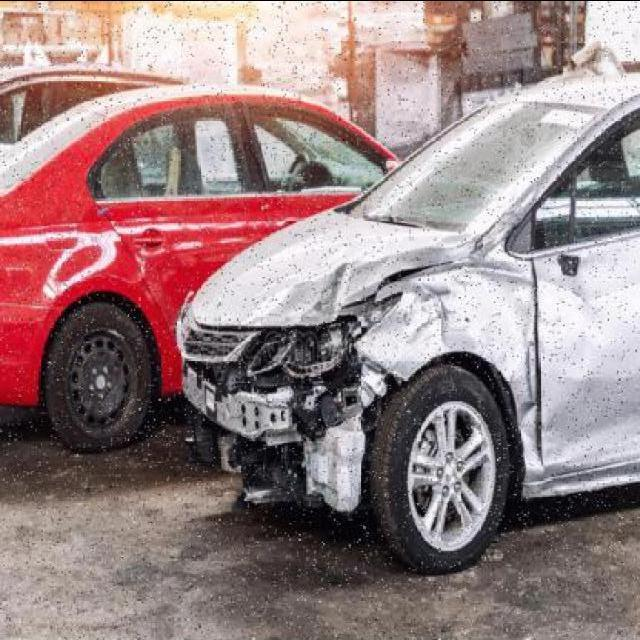bonnet-dent: (174, 215, 382, 327)
doorouter-dent: (533, 241, 640, 469)
fender-dent: (383, 254, 534, 424)
front-bumper-dent: (176, 335, 380, 519)
